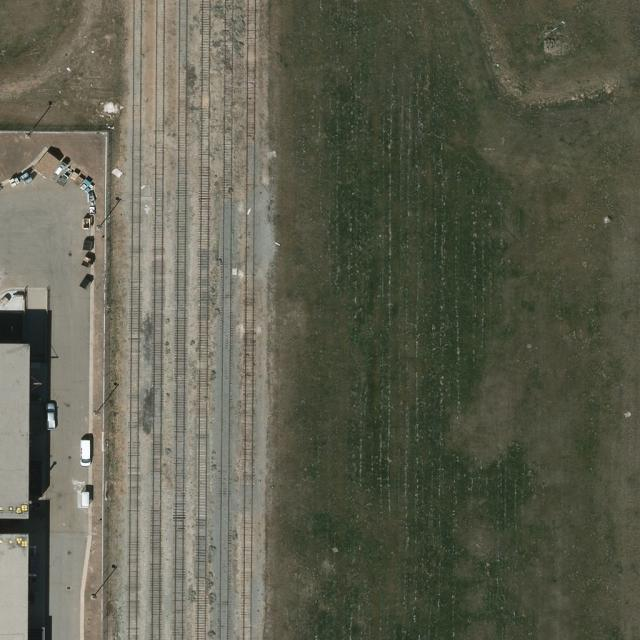vehicle: (44, 402, 57, 431), (79, 438, 92, 466)
